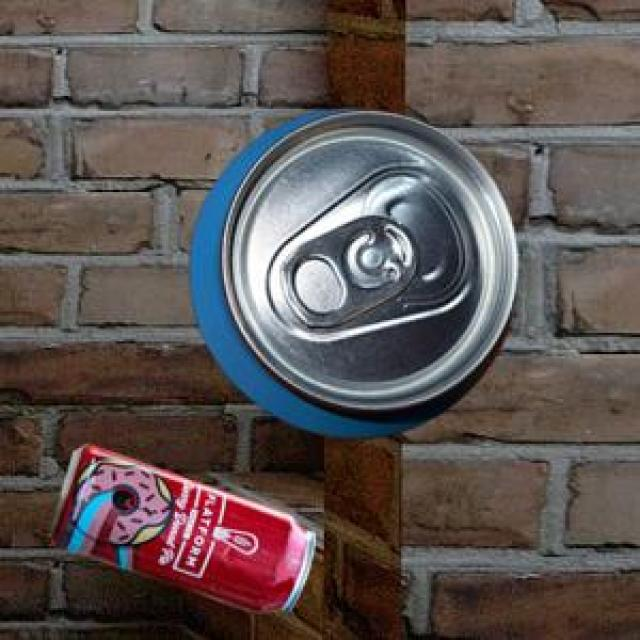logam: (187, 106, 515, 436), (48, 441, 313, 609)
